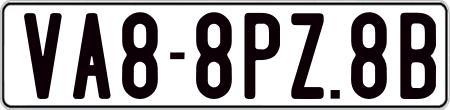8: (196, 10, 233, 100), (122, 9, 158, 100), (349, 10, 385, 101)
A: (73, 12, 116, 98)
B: (397, 11, 430, 97)
P: (243, 13, 280, 101)
V: (24, 10, 66, 98)
Z: (289, 11, 328, 99)
